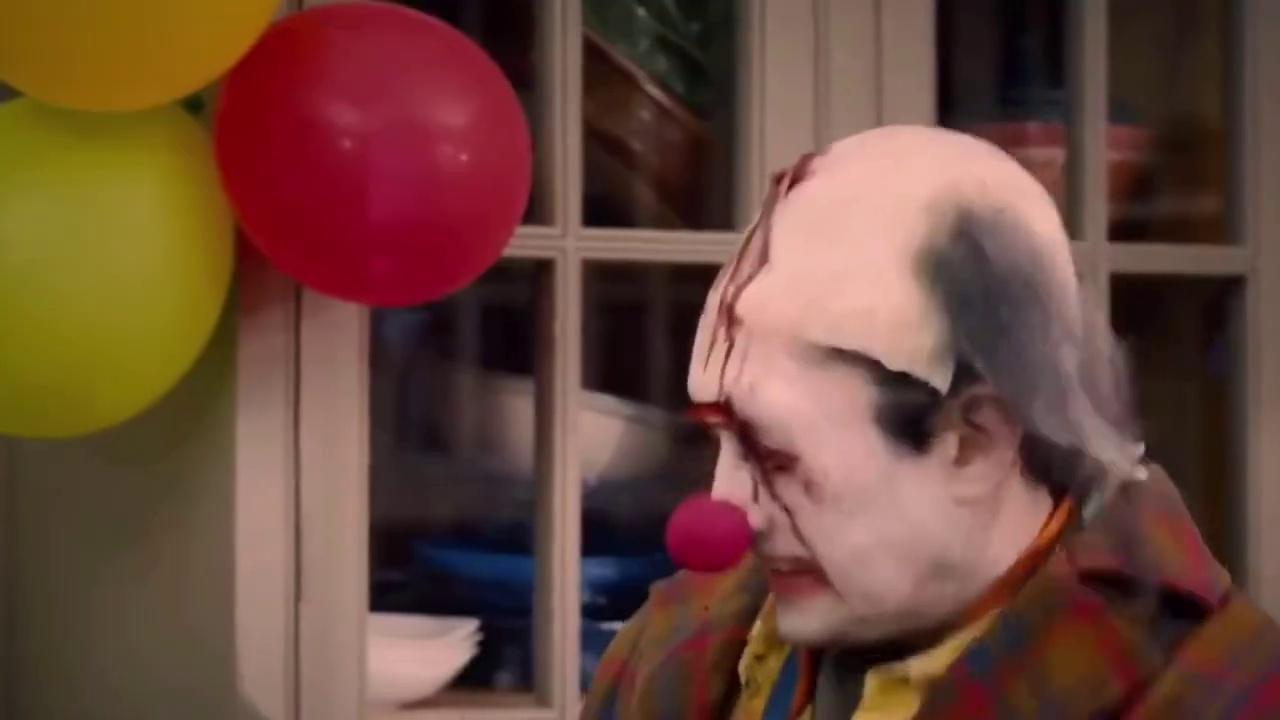Fire: (689, 151, 819, 500)
